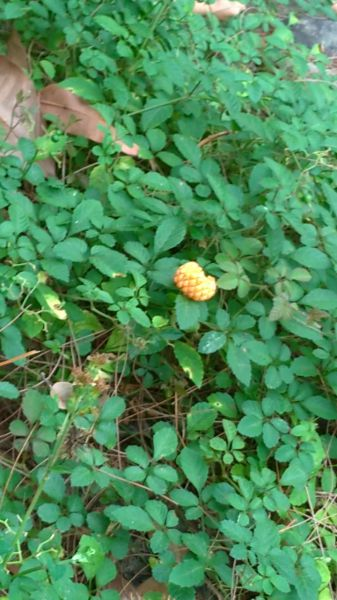eggs: (170, 260, 220, 306)
